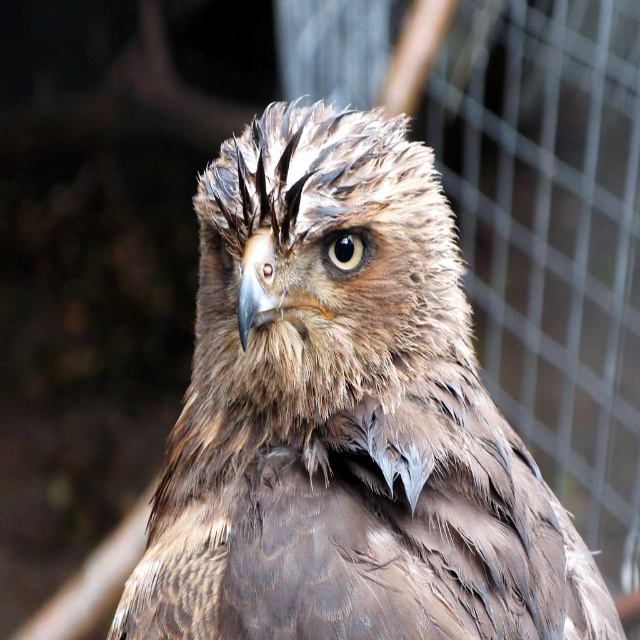Eagle: (104, 93, 627, 639)
